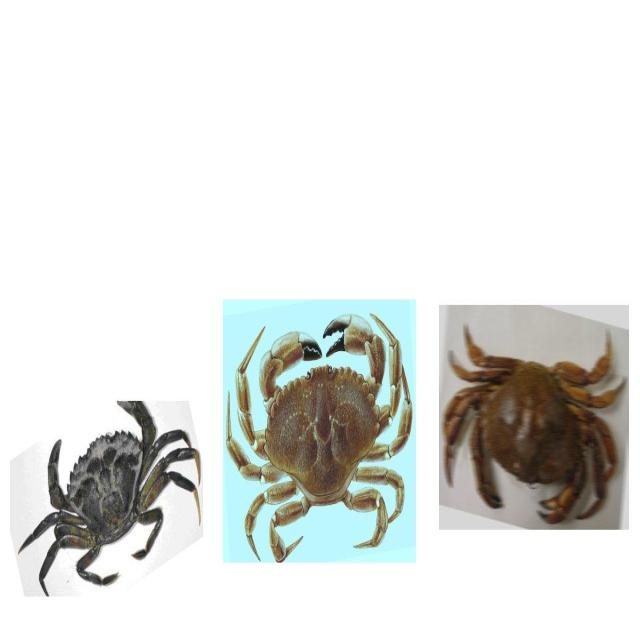egc: (17, 401, 202, 597)
